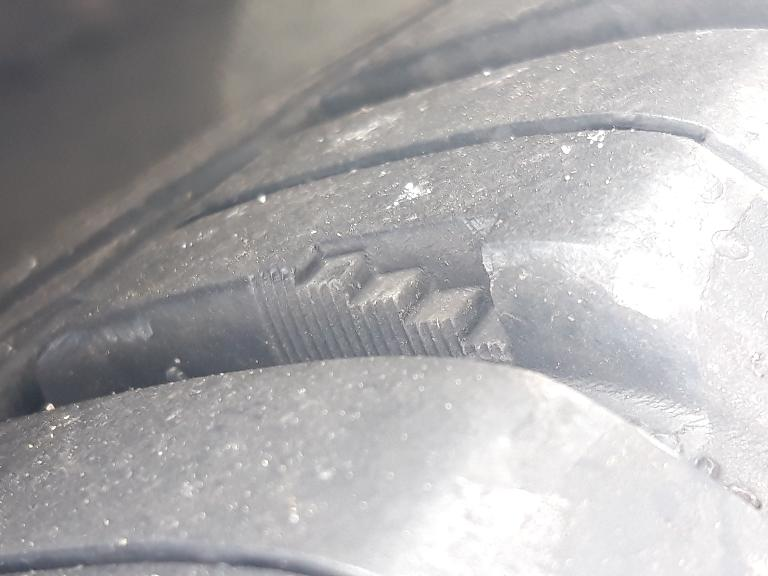temoin:90: (241, 206, 531, 376)
